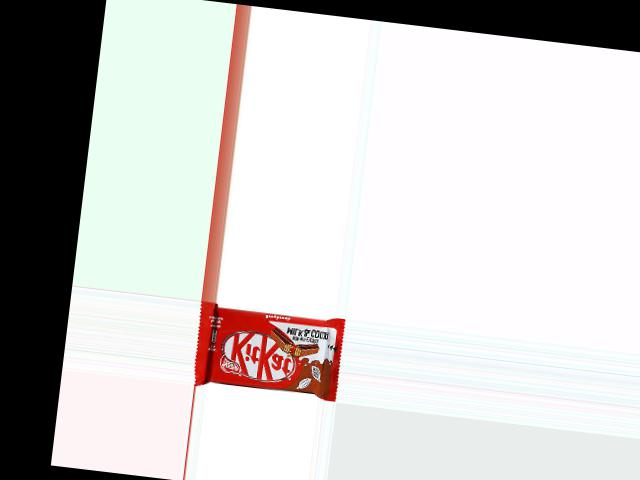chocolate: (192, 301, 347, 402)
